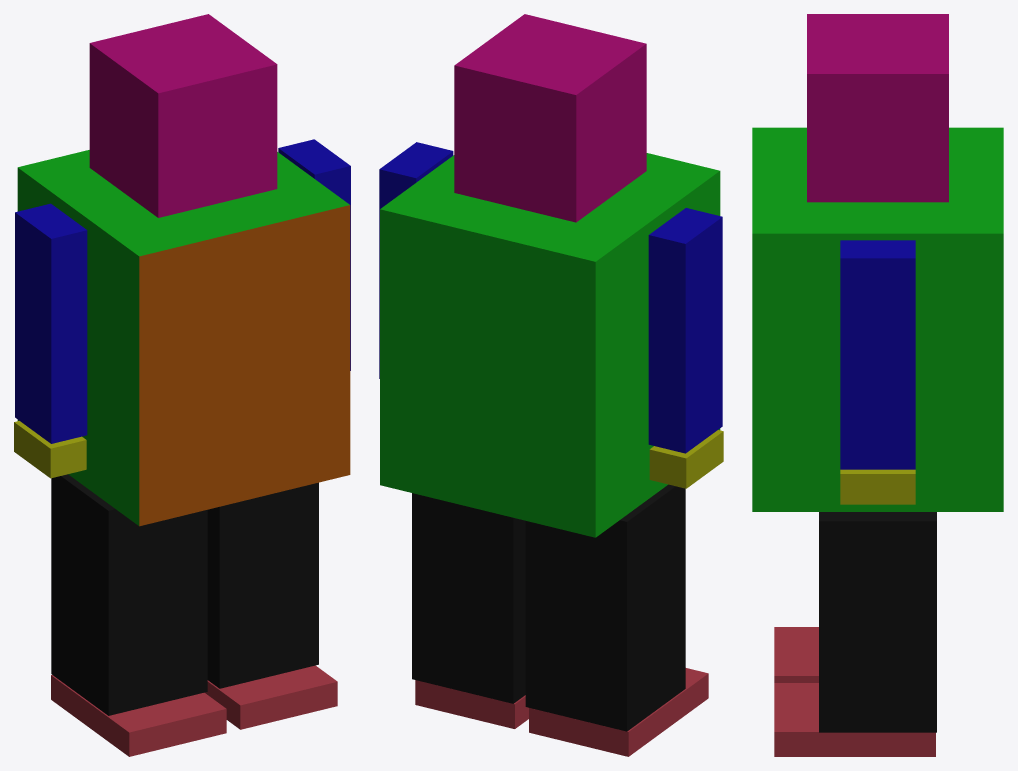
Rendered from sample_body.obj.
3 renders of one model, left to right at view 1: azimuth 30°, elevation 25°; view 2: azimuth 150°, elevation 25°; view 3: azimuth 270°, elevation 25°, orthographic. The views are drawn at different scales.
Visible parts, largest first — view 1: torso_Cube.002, head_Cube.007, leg_r_Cube.003, leg_l_Cube.003, arm_r_Cube.005, foot_r_Cube.004, foot_l_Cube.004, hand_r_Cube.006, arm_l_Cube.005; view 2: torso_Cube.002, head_Cube.007, leg_r_Cube.003, leg_l_Cube.003, arm_r_Cube.005, foot_r_Cube.004, foot_l_Cube.004, hand_r_Cube.006, arm_l_Cube.005; view 3: torso_Cube.002, head_Cube.007, leg_l_Cube.003, arm_l_Cube.005, foot_l_Cube.004, hand_l_Cube.006, foot_r_Cube.004.
Boxes of the visible parts, x1=… form: torso_Cube.002: x1=17, y1=150, x2=350, y2=526; head_Cube.007: x1=89, y1=14, x2=277, y2=217; leg_r_Cube.003: x1=51, y1=474, x2=207, y2=715; leg_l_Cube.003: x1=207, y1=482, x2=318, y2=688; arm_r_Cube.005: x1=15, y1=203, x2=87, y2=443; foot_r_Cube.004: x1=51, y1=675, x2=226, y2=756; foot_l_Cube.004: x1=205, y1=665, x2=337, y2=729; hand_r_Cube.006: x1=14, y1=421, x2=86, y2=478; arm_l_Cube.005: x1=278, y1=139, x2=350, y2=370; torso_Cube.002: x1=380, y1=153, x2=720, y2=537; head_Cube.007: x1=454, y1=14, x2=646, y2=222; leg_r_Cube.003: x1=525, y1=484, x2=685, y2=731; leg_l_Cube.003: x1=412, y1=493, x2=525, y2=703; arm_r_Cube.005: x1=648, y1=208, x2=722, y2=453; foot_r_Cube.004: x1=529, y1=668, x2=708, y2=756; foot_l_Cube.004: x1=415, y1=680, x2=528, y2=728; hand_r_Cube.006: x1=649, y1=430, x2=723, y2=488; arm_l_Cube.005: x1=379, y1=142, x2=453, y2=378; torso_Cube.002: x1=752, y1=127, x2=1003, y2=511; head_Cube.007: x1=807, y1=14, x2=948, y2=202; leg_l_Cube.003: x1=819, y1=512, x2=936, y2=732; arm_l_Cube.005: x1=840, y1=240, x2=915, y2=469; foot_l_Cube.004: x1=774, y1=683, x2=935, y2=756; hand_l_Cube.006: x1=840, y1=469, x2=915, y2=504; foot_r_Cube.004: x1=774, y1=627, x2=818, y2=682.
Size of the model in its own units: 1.06 by 2.16 by 0.7429.
